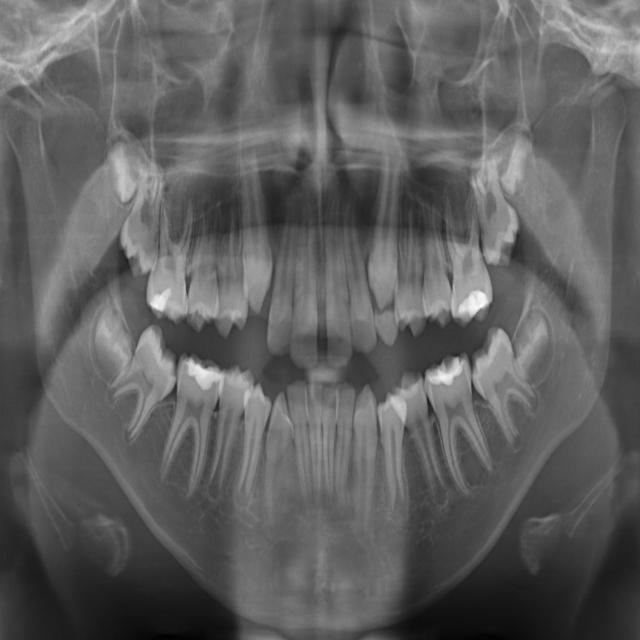CompositeResinRestoration: (428, 351, 470, 393), (186, 352, 222, 396), (456, 283, 488, 318), (150, 285, 170, 318)
